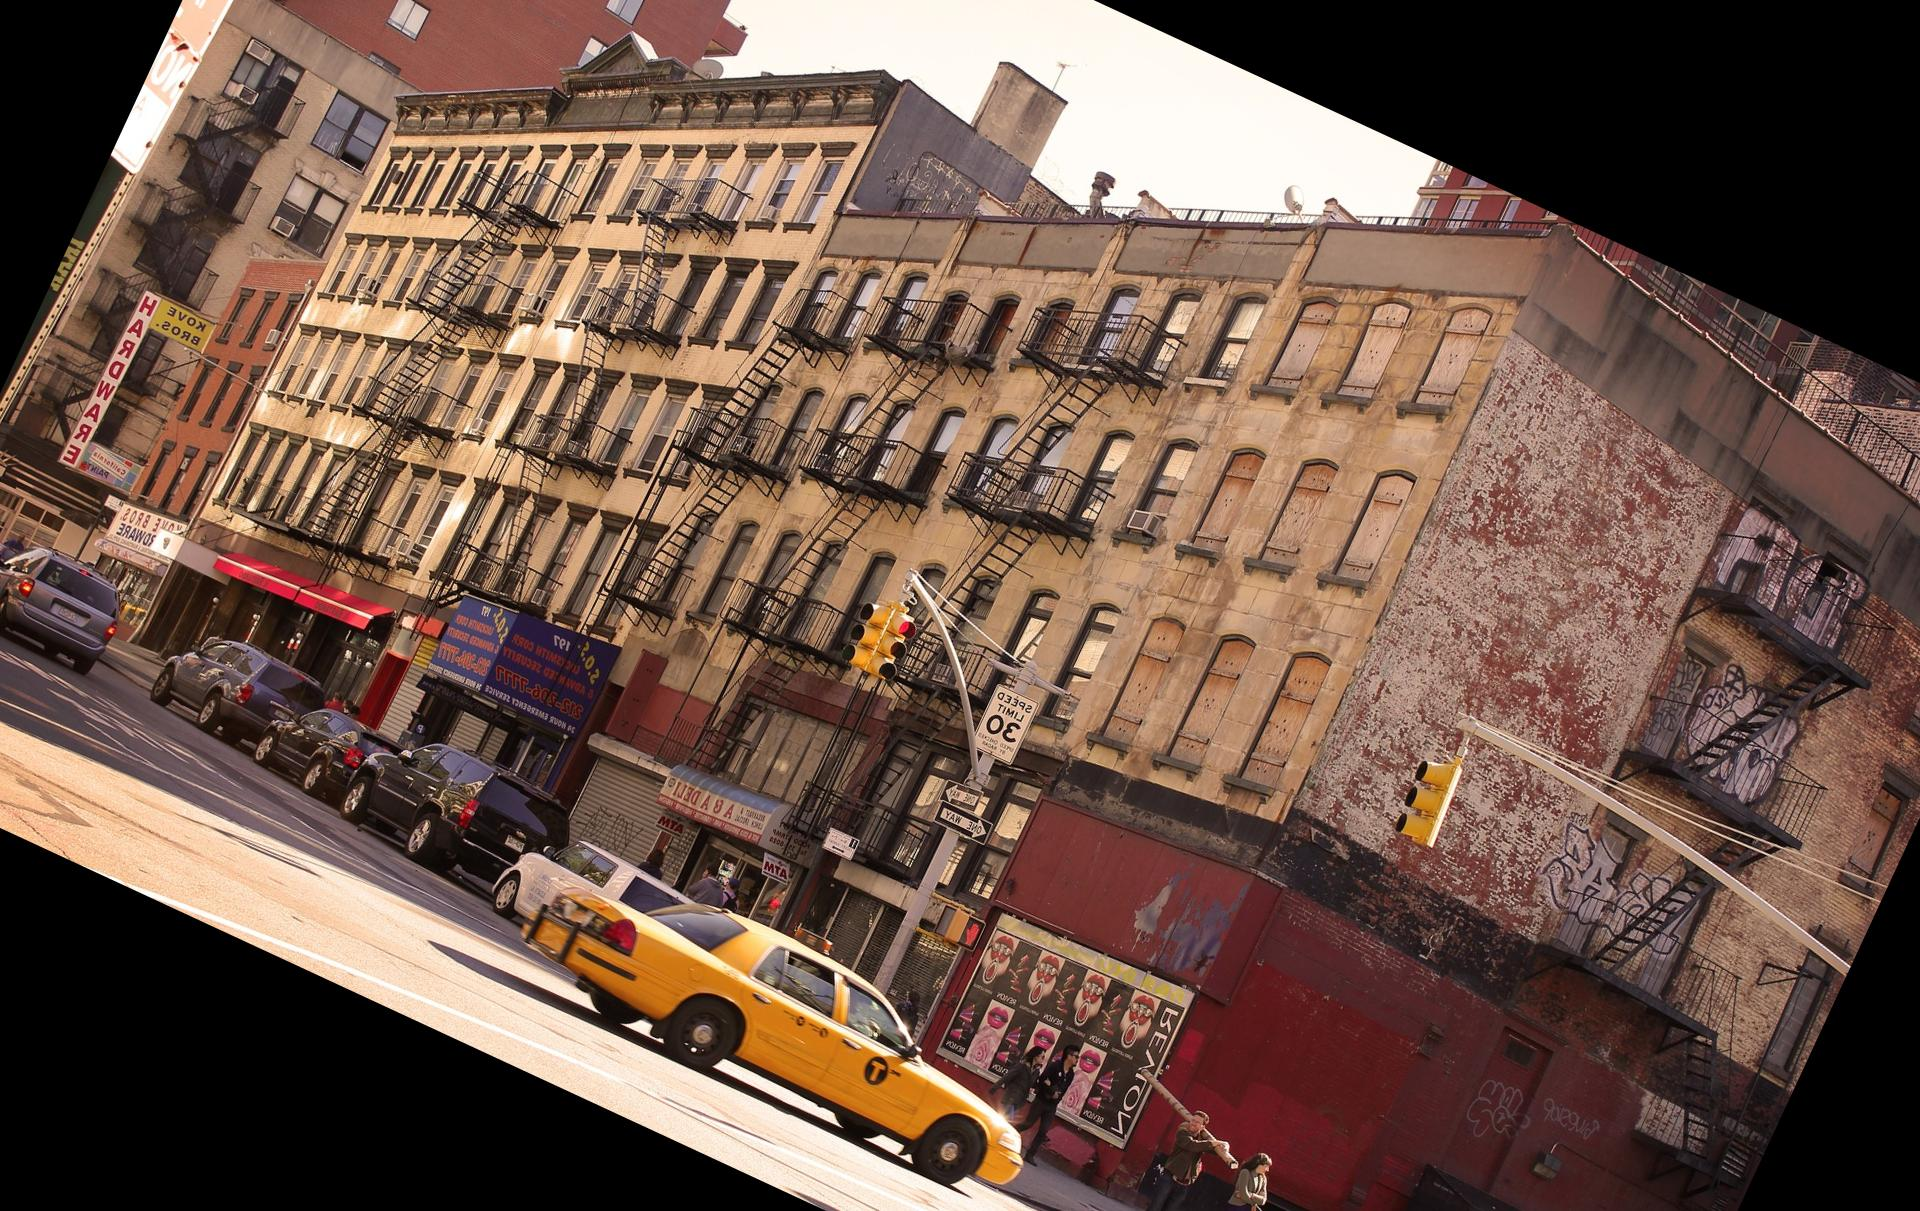taxi: (523, 875, 1044, 1191)
